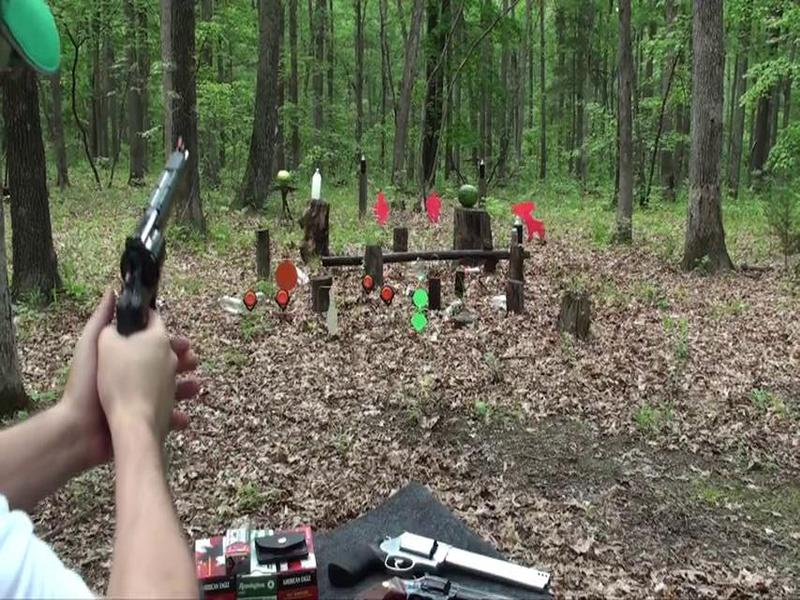Revolver: (105, 128, 203, 362)
